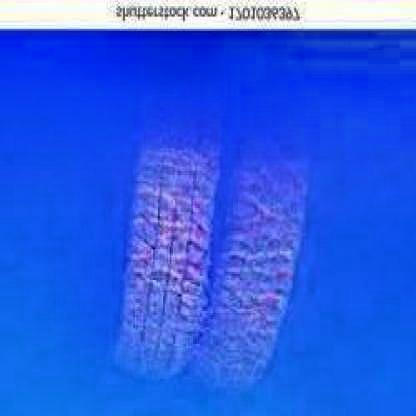tire: (108, 88, 215, 392), (218, 117, 303, 385)
